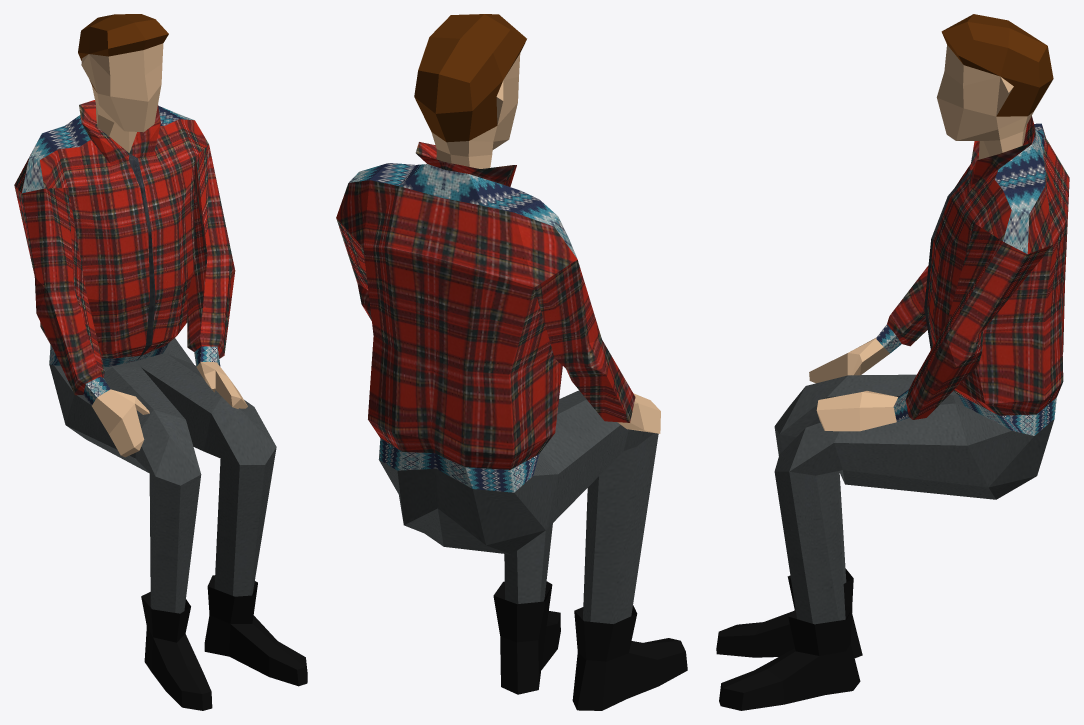
The model's file is AutumnManC.006.glb.
The picture shows the model from 3 angles, left to right: view 1: azimuth 30°, elevation 25°; view 2: azimuth 150°, elevation 25°; view 3: azimuth 270°, elevation 25°; orthographic projection. The views are drawn at different scales.
Parts seen in each view (by area): view 1: AutumnManC.006; view 2: AutumnManC.006; view 3: AutumnManC.006.
Boxes of the visible parts, x1=… form: AutumnManC.006: x1=14, y1=14, x2=307, y2=710; AutumnManC.006: x1=336, y1=14, x2=687, y2=710; AutumnManC.006: x1=716, y1=14, x2=1069, y2=710.
Size of the model in its own units: 0.4815 by 1.4 by 0.6855.
Materials: 1 (1 with a texture image).
